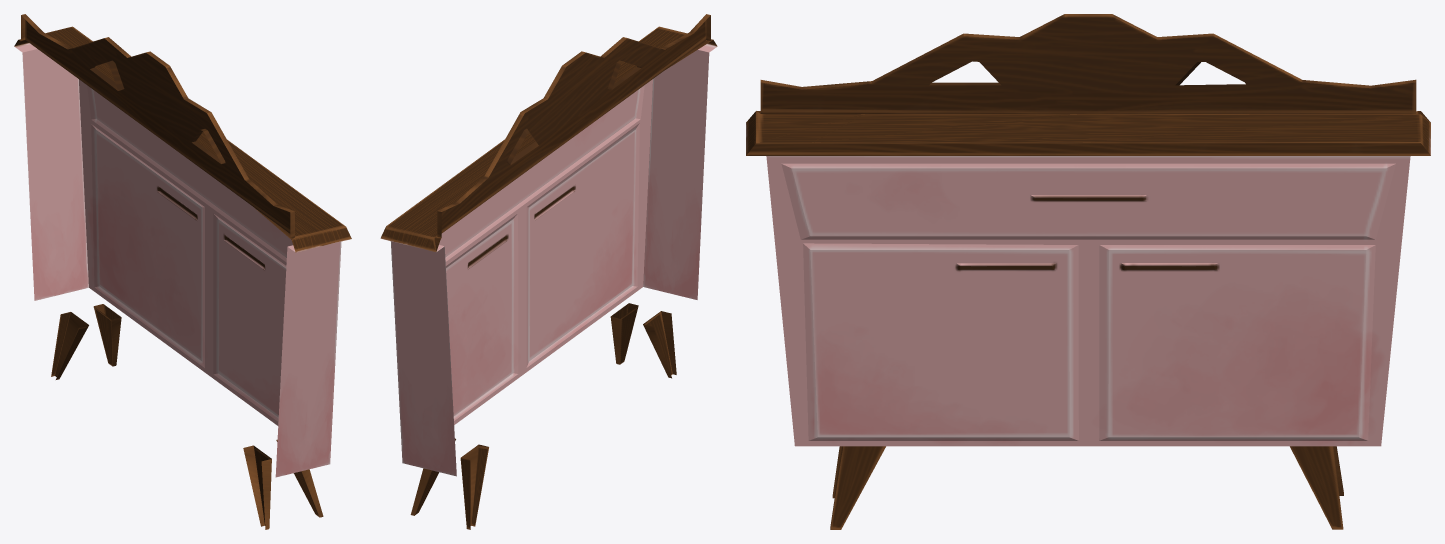
File: MeubleEntree.FBX
3 views of the same model, side by side, from view 1: azimuth 30°, elevation 25°; view 2: azimuth 150°, elevation 25°; view 3: azimuth 270°, elevation 25° (orthographic). The views are drawn at different scales.
Visible parts, largest first — view 1: Object003; view 2: Object003; view 3: Object003.
Part boxes in pixels (x1,y1,x2,y2): Object003: (14,14,351,529); Object003: (380,14,717,529); Object003: (746,14,1430,529).
Bounding box in the file's own units: 17.66 × 107 × 138.
